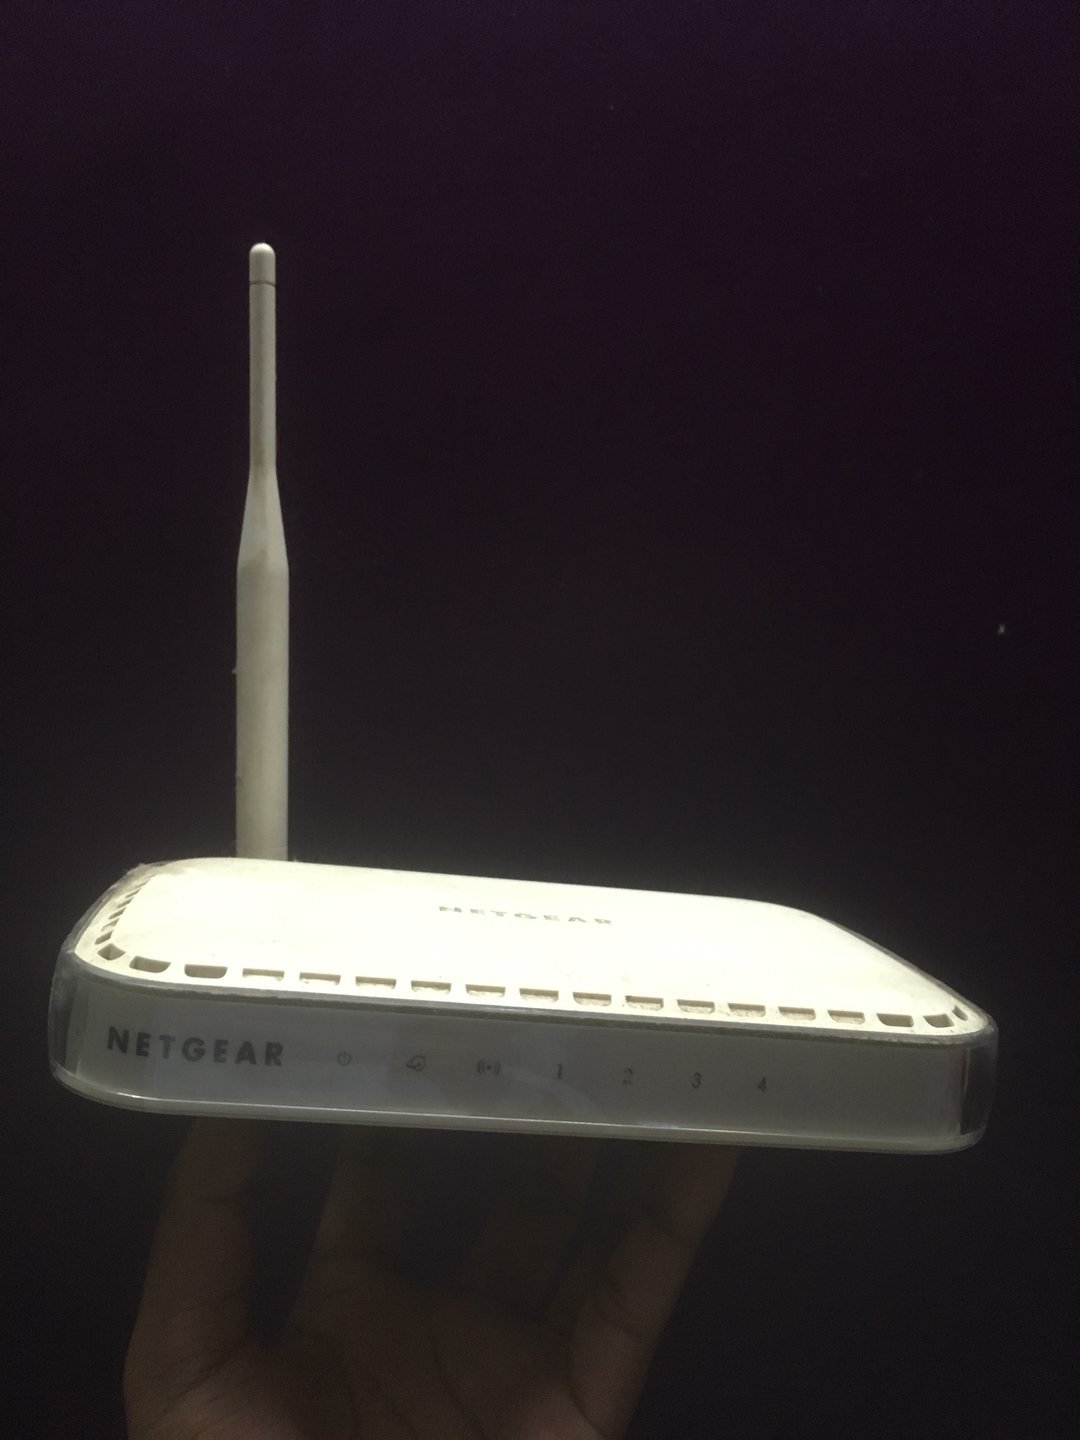NETGEAR: (95, 1017, 292, 1079)
modem: (49, 943, 1015, 1160)
